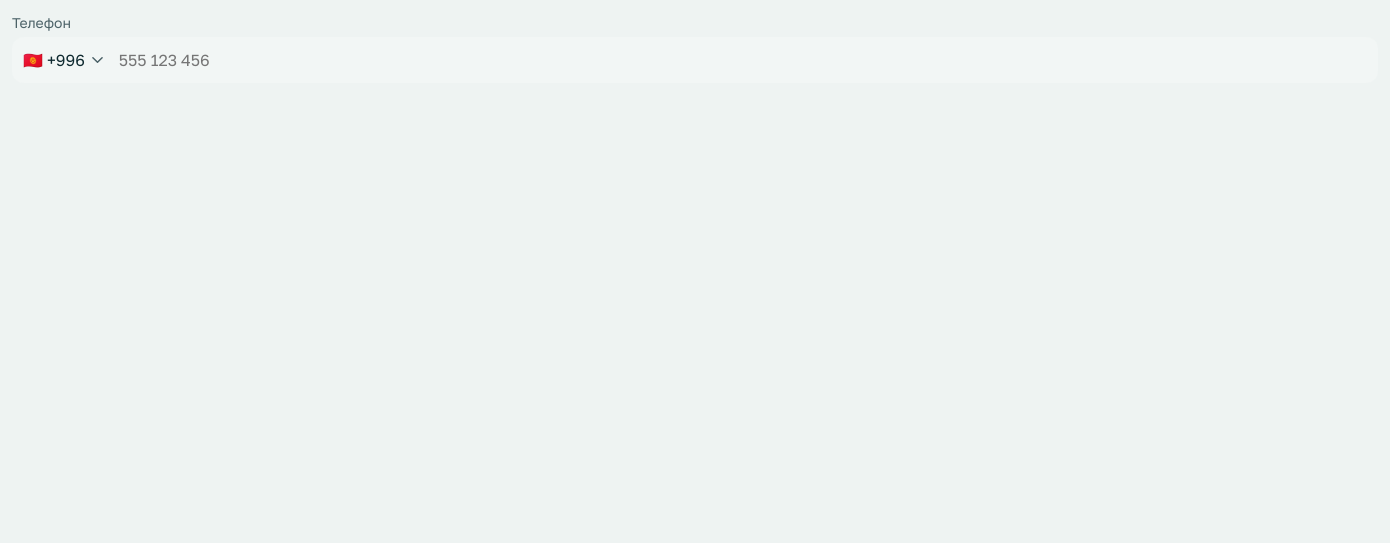
it: выбрали Узбекистан — номер уходит с +998; страна остаётся, пока поле пустое
This screenshot has width=1390, height=543.
Later steps or results of the test are not shown.
Click the dropdown named "Код страны".
click(62, 60)  # box [13, 38, 111, 82]
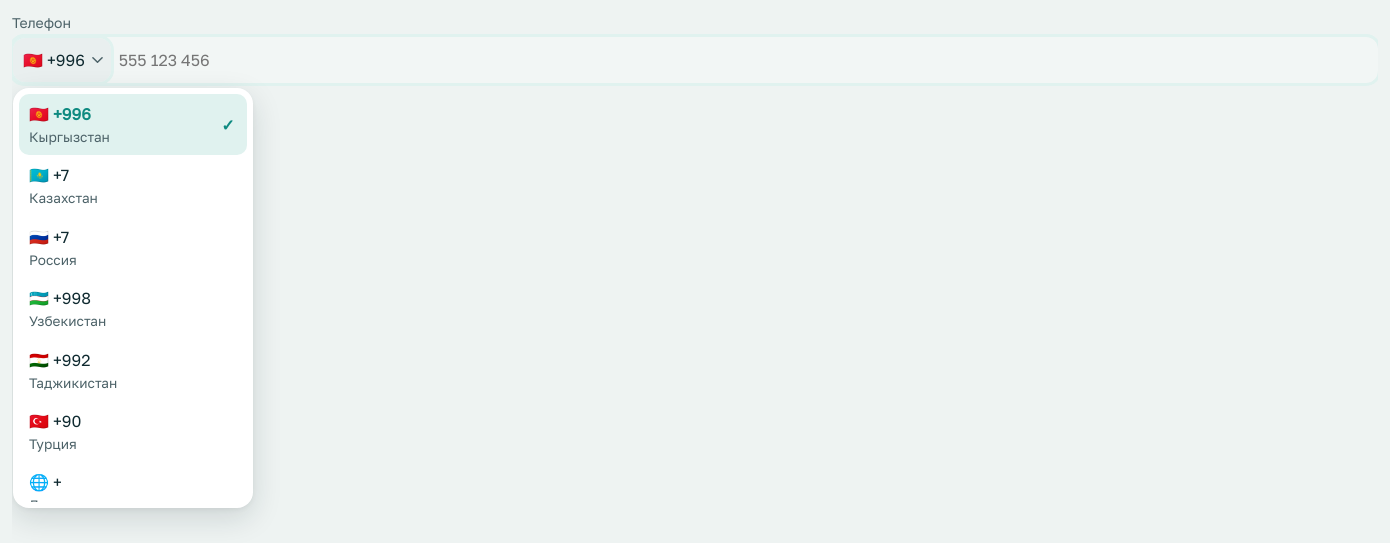
Click the option "🇺🇿 +998 Узбекистан".
click(68, 309)  # box [29, 288, 106, 329]
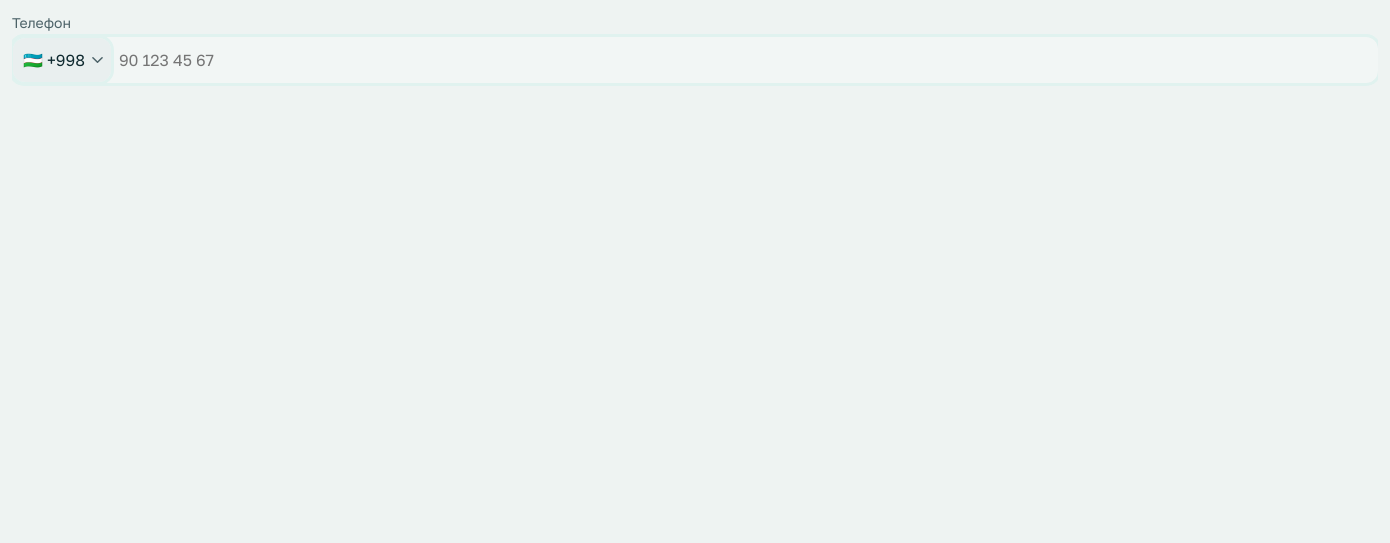
Now the element showing "🇺🇿 +998" is shown, box [23, 48, 85, 72]
